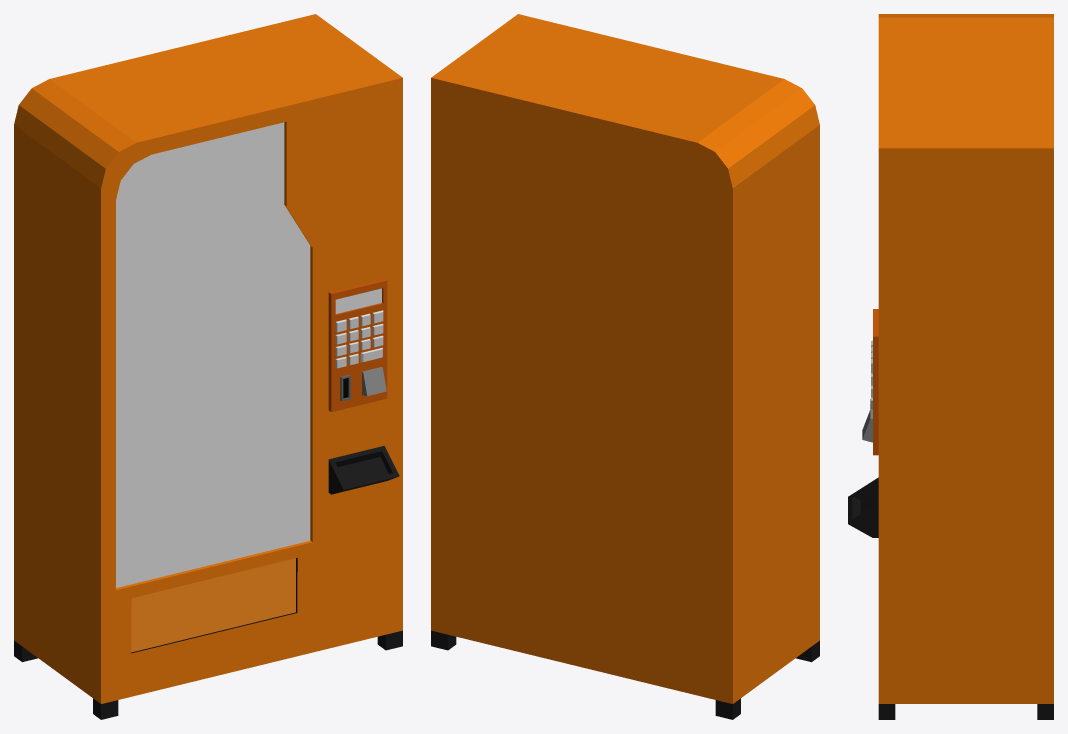
The model's file is VendingMachine.fbx.
The picture shows the model from 3 angles, left to right: view 1: azimuth 30°, elevation 25°; view 2: azimuth 150°, elevation 25°; view 3: azimuth 270°, elevation 25°; orthographic projection.
Parts seen in each view (by area): view 1: VendingMachine; view 2: VendingMachine; view 3: VendingMachine.
Part boxes in pixels (bbox=[...]): VendingMachine: bbox=[14, 14, 402, 719]; VendingMachine: bbox=[431, 14, 819, 719]; VendingMachine: bbox=[848, 14, 1053, 719].
Size of the model in its own units: 1000 by 1800 by 587.
